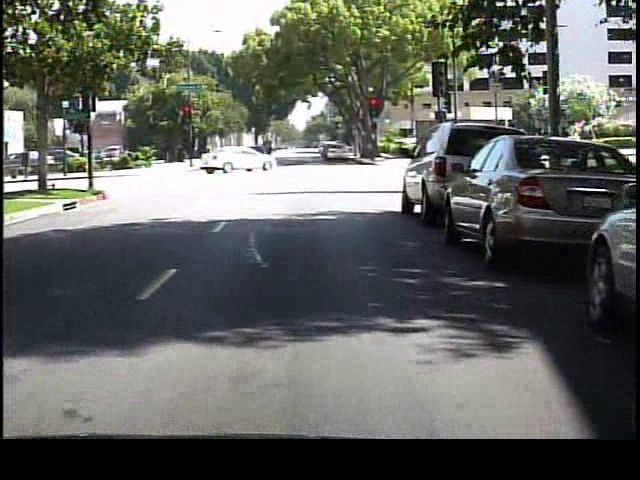person: (264, 140, 280, 171)
